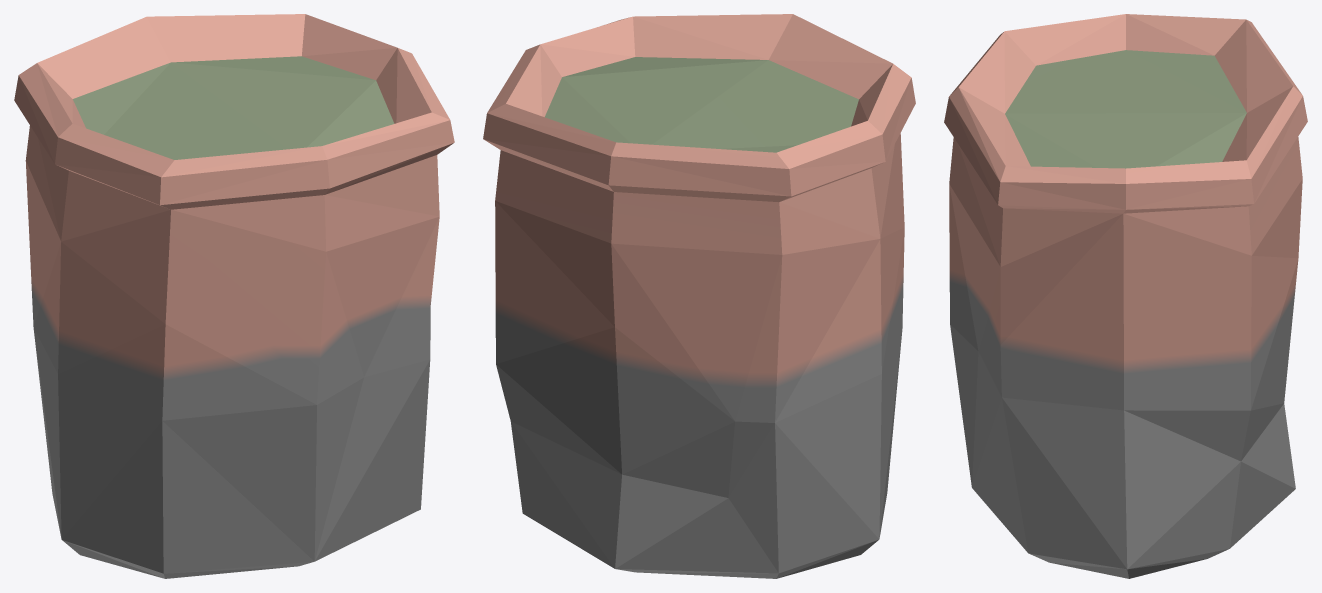
The model's file is Bag_02.fbx.
3 views of the same model, side by side, from view 1: azimuth 30°, elevation 25°; view 2: azimuth 150°, elevation 25°; view 3: azimuth 270°, elevation 25° (orthographic). The views are drawn at different scales.
Visible parts, largest first — view 1: Bag_02; view 2: Bag_02; view 3: Bag_02.
Part boxes in pixels (box(x1,y1,x2,y2)): Bag_02: box(14, 14, 454, 578); Bag_02: box(483, 14, 915, 578); Bag_02: box(944, 14, 1307, 578).
Size of the model in its own units: 56.04 by 66.25 by 51.49.
